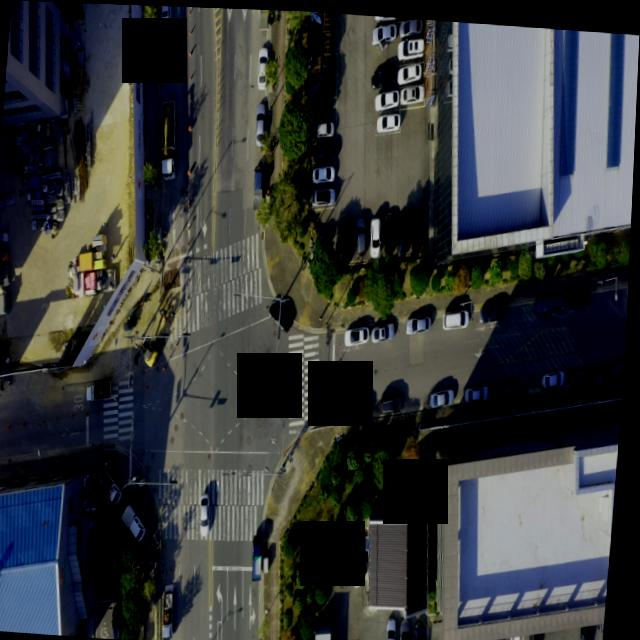car: (534, 284, 564, 318), (354, 533, 370, 587), (409, 204, 425, 257), (397, 205, 413, 255), (270, 296, 293, 327), (372, 63, 398, 90), (384, 207, 399, 253), (156, 5, 174, 43), (566, 281, 594, 305), (203, 491, 217, 538), (371, 19, 398, 43), (431, 382, 459, 405), (377, 109, 403, 133), (398, 35, 424, 59), (443, 304, 471, 326), (481, 299, 509, 321), (606, 351, 628, 379), (500, 373, 527, 395), (346, 323, 372, 345), (319, 399, 346, 420), (342, 216, 355, 259), (256, 45, 269, 87), (398, 58, 421, 81), (376, 86, 399, 109), (407, 311, 433, 331), (466, 379, 492, 399), (400, 81, 424, 102), (374, 320, 398, 341), (570, 363, 595, 383), (350, 397, 376, 416), (544, 366, 569, 385), (314, 139, 337, 159), (313, 163, 336, 183), (381, 393, 404, 413), (372, 216, 384, 253), (312, 185, 335, 204), (399, 15, 420, 35), (356, 216, 368, 251), (585, 618, 603, 640), (255, 102, 265, 141), (316, 117, 336, 136), (392, 616, 402, 640), (533, 626, 550, 640)
medium_truck: (157, 98, 183, 179)
small_truck: (98, 465, 128, 505), (164, 578, 182, 639), (124, 505, 152, 543), (253, 531, 270, 582), (89, 380, 118, 404), (252, 162, 266, 206)
